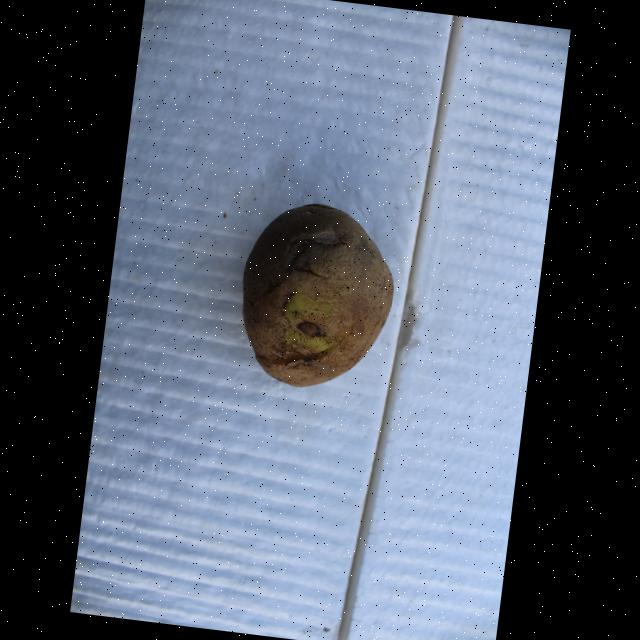Defected potato: (230, 192, 406, 398)
